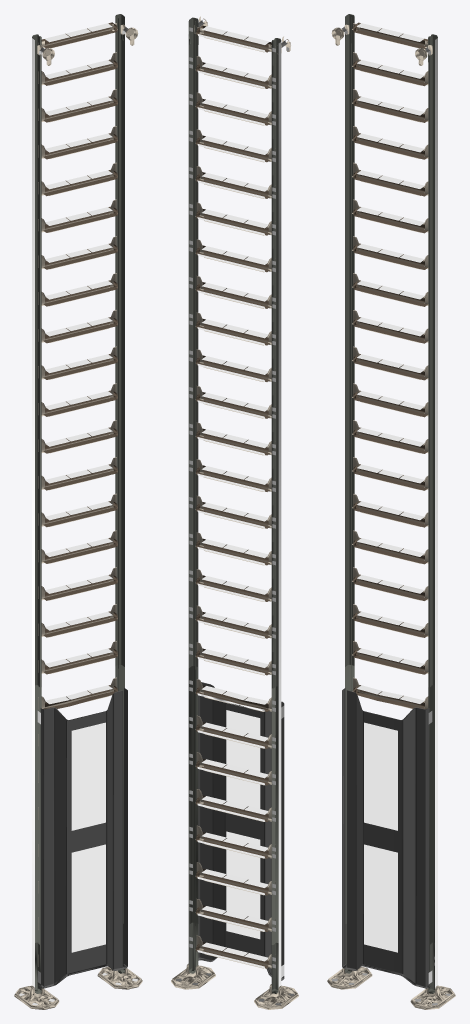
The model's file is ladder_freestanding_0065x0025x065_b.glb.
3 renders of one model, left to right at view 1: azimuth 30°, elevation 25°; view 2: azimuth 150°, elevation 25°; view 3: azimuth 330°, elevation 25°, orthographic.
Bounding box in the file's own units: 0.793 × 6.54 × 0.3212.
